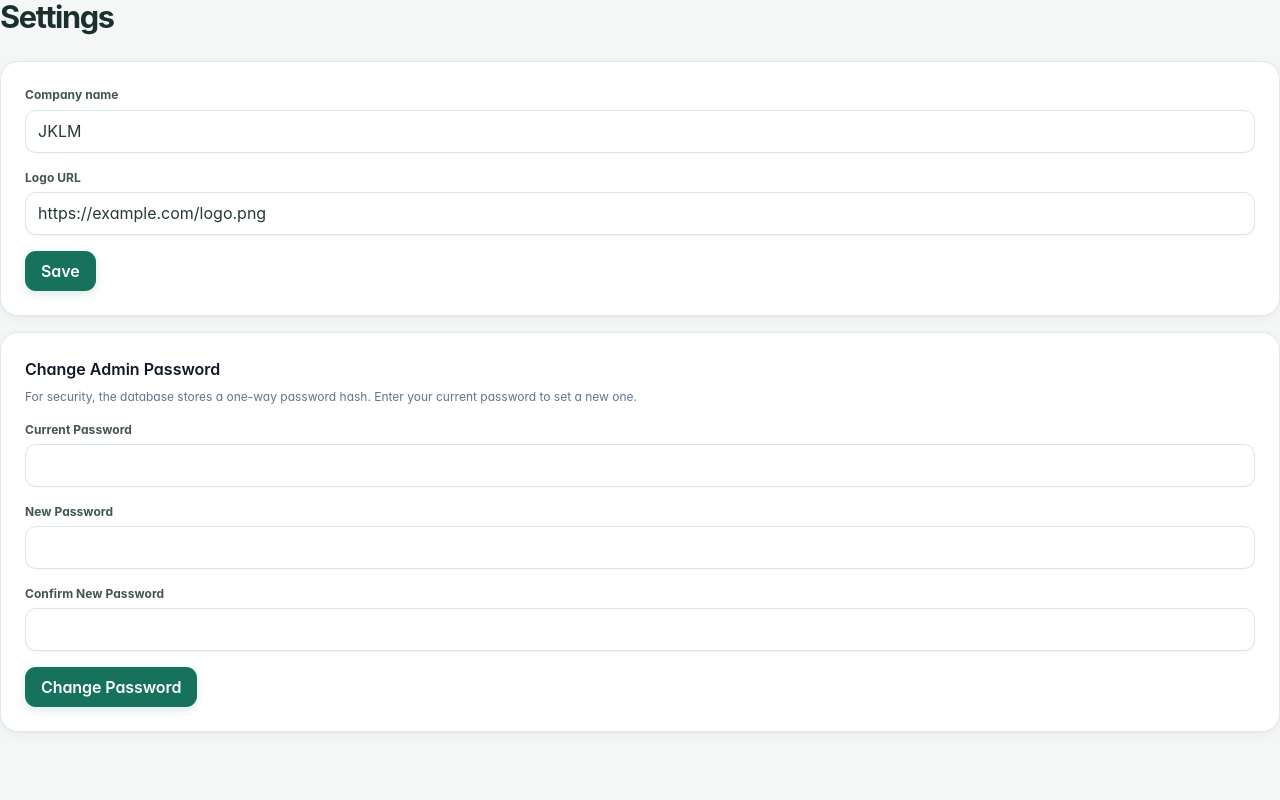
allows clearing the logo without changing company or reporting settings
The image size is (1280, 800).
Clear the field labelled "Logo URL" at [640, 213], box [25, 192, 1255, 235]
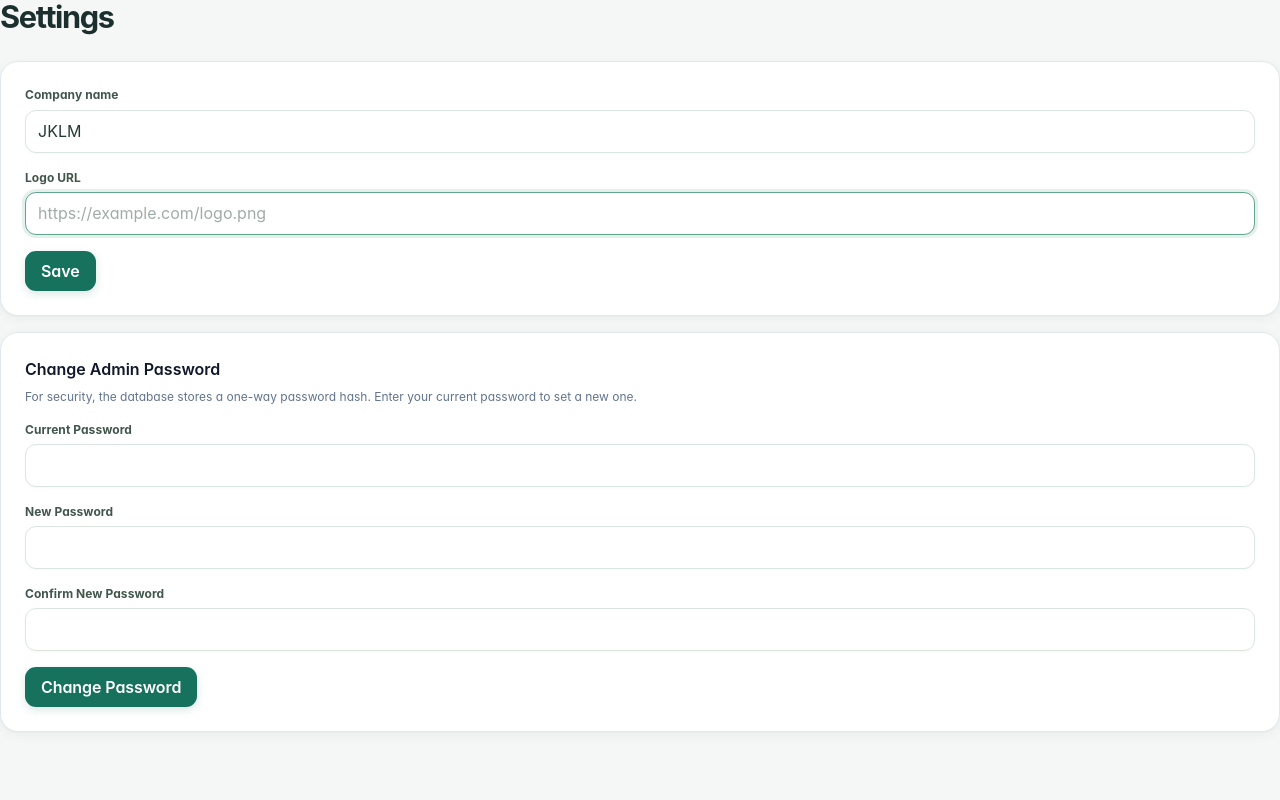
Click the button "Save" at [60, 271], box [25, 251, 96, 291]
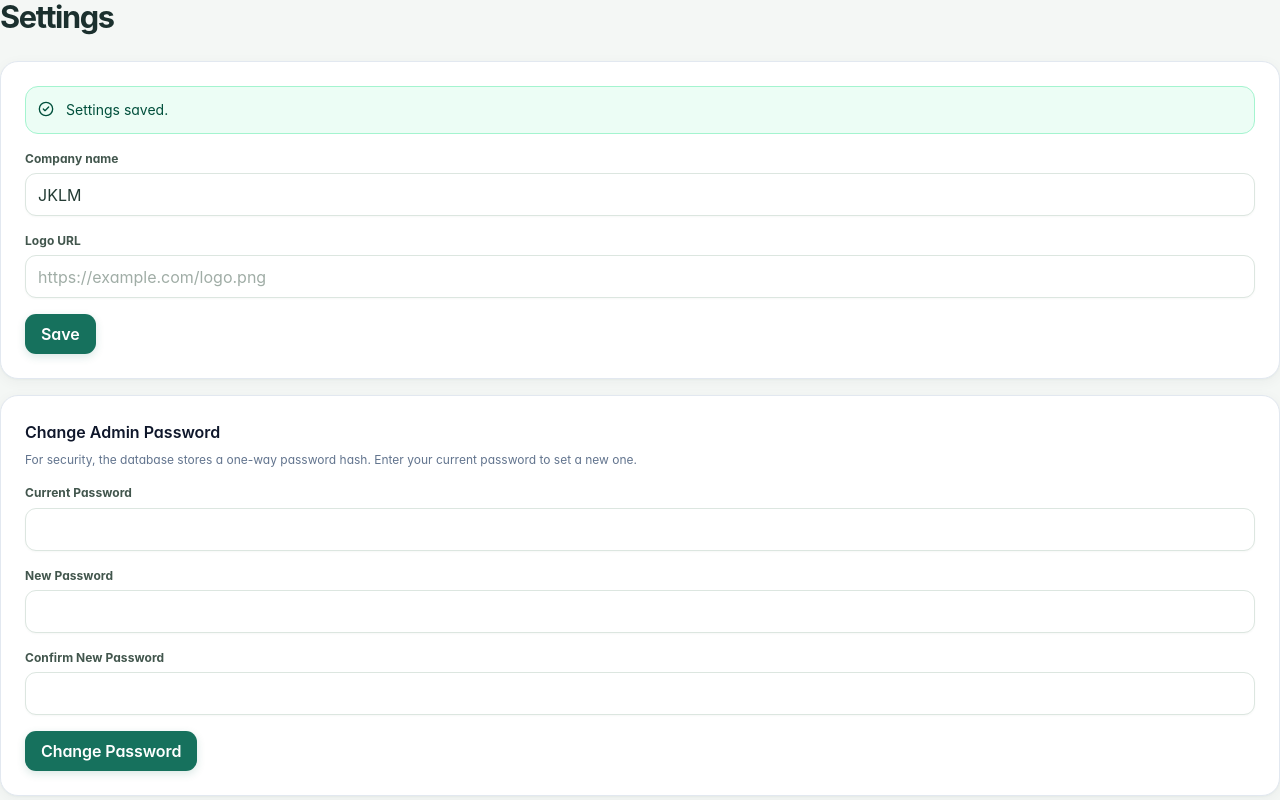
Result: the text "Settings saved." is shown at [66, 99, 168, 121]
